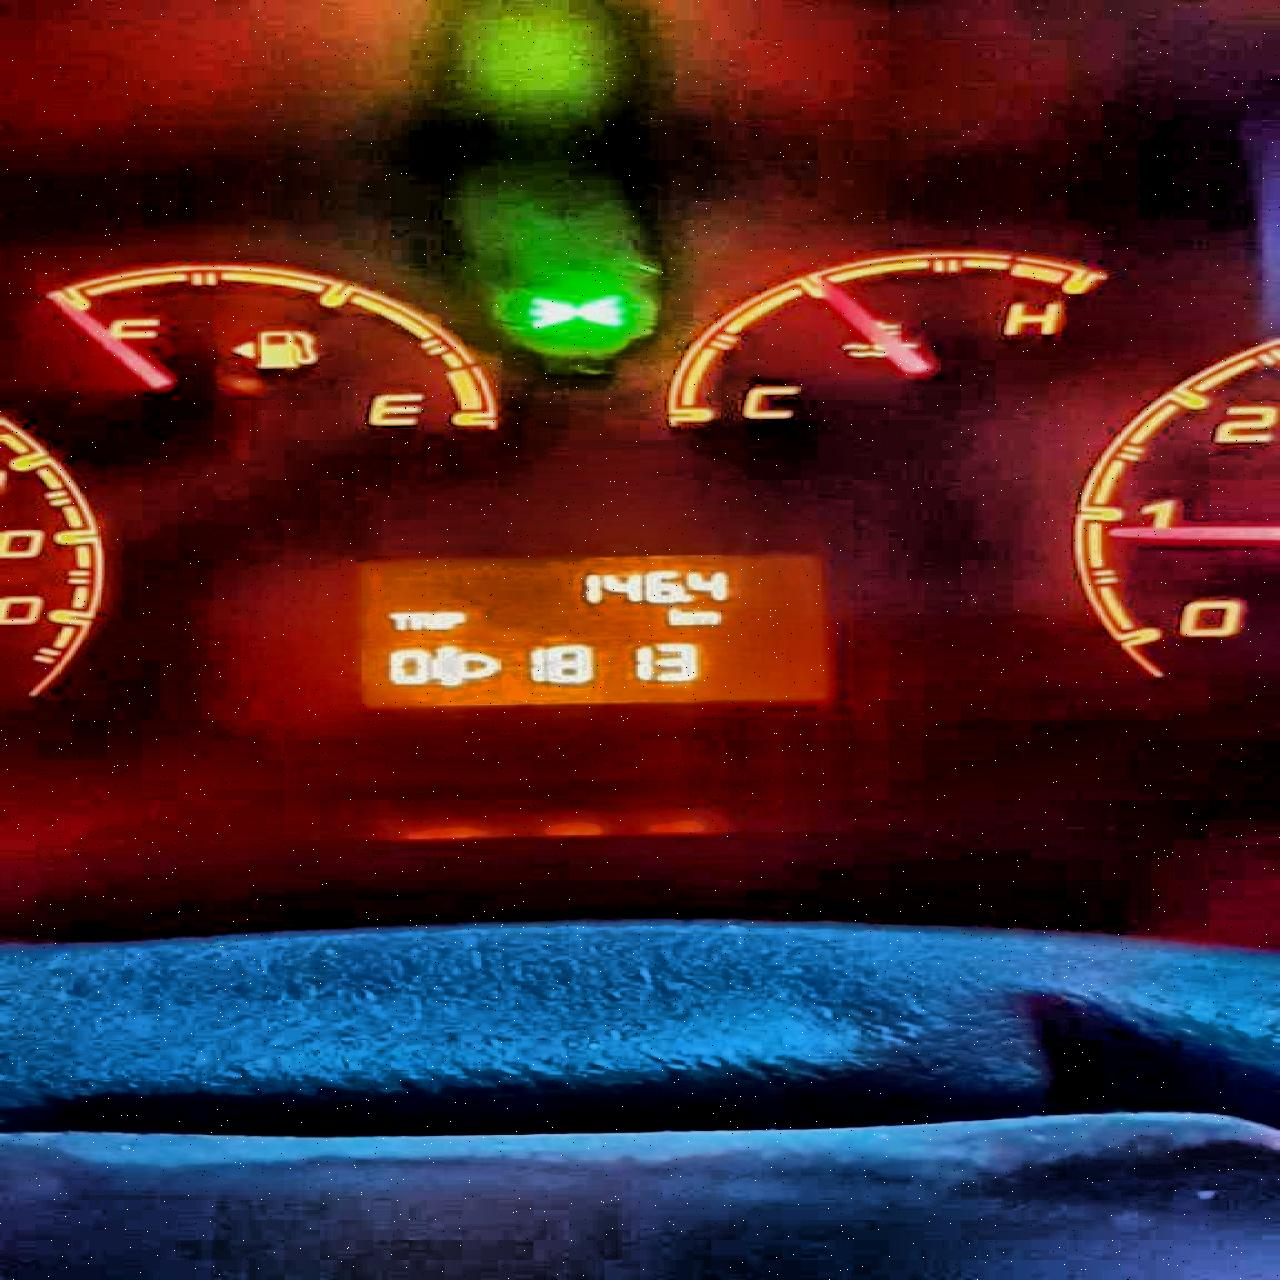-: (680, 592, 696, 602)
0: (384, 646, 427, 685)
1: (627, 640, 652, 685), (524, 644, 545, 686), (583, 570, 600, 604)
3: (653, 639, 697, 682)
4: (685, 568, 731, 601), (602, 572, 642, 602)
6: (645, 567, 682, 602)
8: (546, 641, 591, 683)
X: (665, 605, 692, 625), (384, 608, 407, 632), (441, 610, 467, 629), (407, 610, 427, 629), (692, 610, 717, 625), (427, 610, 441, 629)
odometer: (349, 551, 836, 707)
